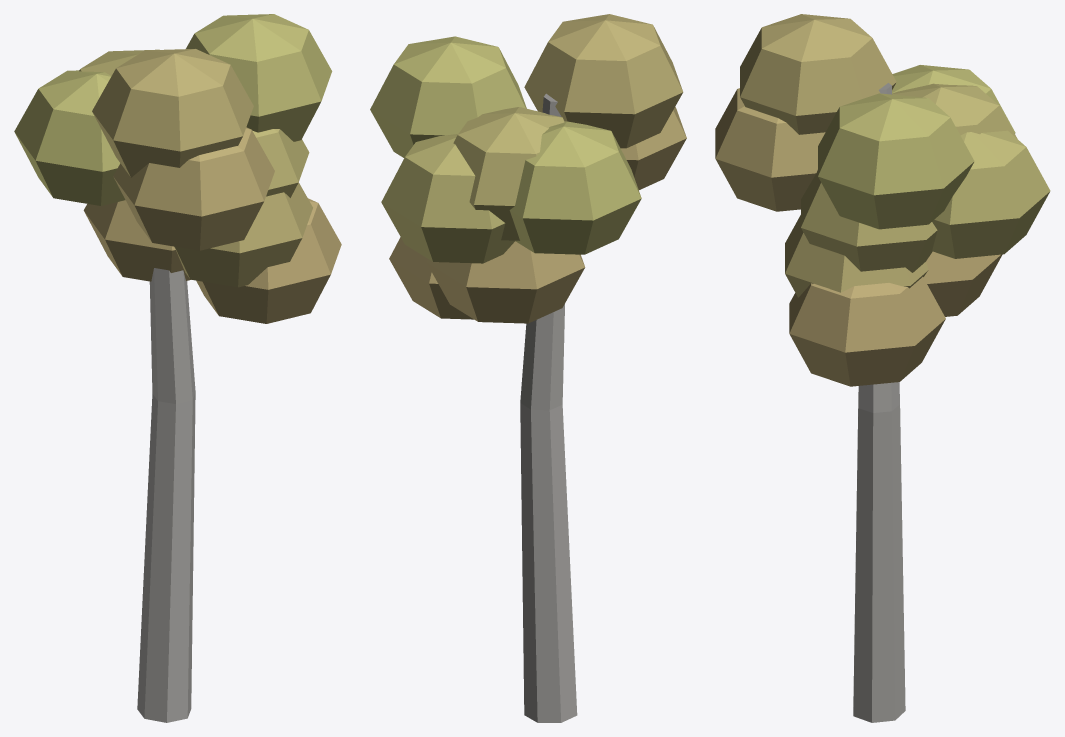
The model's file is Tree_Birch.fbx.
3 renders of one model, left to right at view 1: azimuth 30°, elevation 25°; view 2: azimuth 150°, elevation 25°; view 3: azimuth 270°, elevation 25°, orthographic.
Visible parts, largest first — view 1: Res_Tree_Birch; view 2: Res_Tree_Birch; view 3: Res_Tree_Birch.
Boxes of the visible parts, x1,y1,x2,y2 form: Res_Tree_Birch: [14, 14, 341, 722]; Res_Tree_Birch: [370, 14, 686, 722]; Res_Tree_Birch: [715, 14, 1050, 722].
Bounding box in the file's own units: 2.3 × 5.47 × 2.44.
